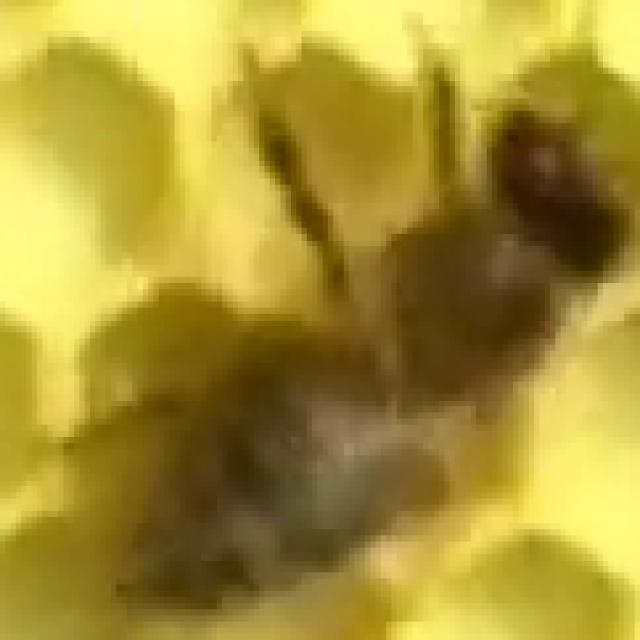honeybee: (126, 109, 614, 592)
